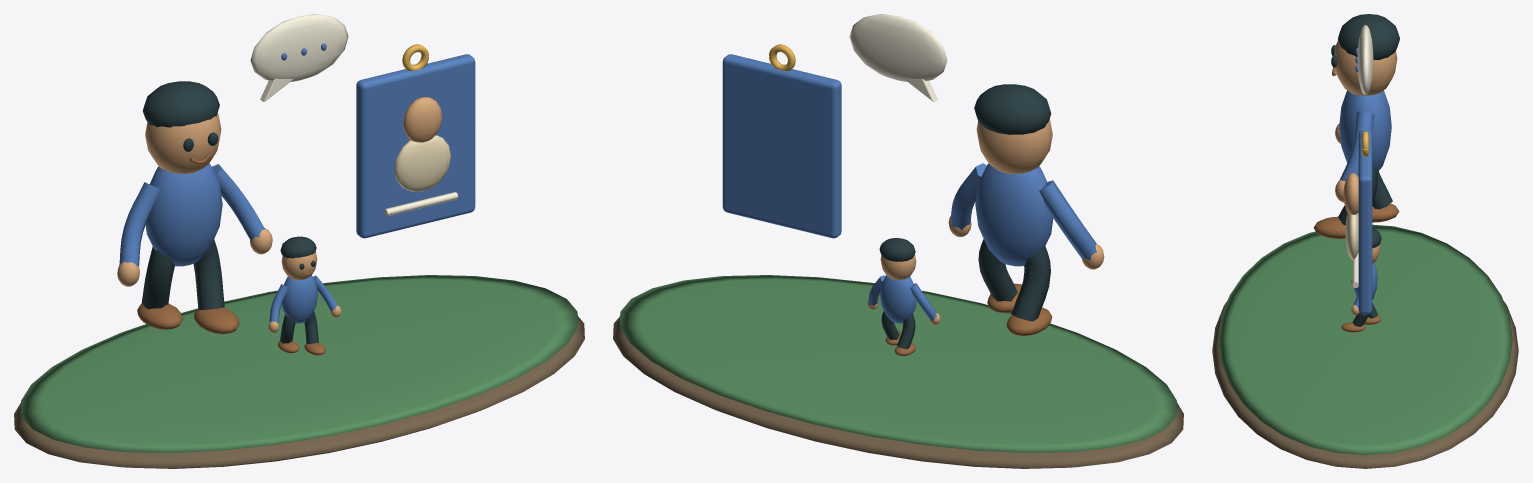
The model's file is complete-first-introduce-two-people.glb.
3 views of the same model, side by side, from view 1: azimuth 30°, elevation 25°; view 2: azimuth 150°, elevation 25°; view 3: azimuth 270°, elevation 25° (orthographic). The views are drawn at different scales.
Parts seen in each view (by area): view 1: complete-first-introduce-two-people_surface_01, complete-first-introduce-two-people_surface_05, complete-first-introduce-two-people_surface_00, complete-first-introduce-two-people_surface_03, complete-first-introduce-two-people_surface_02, complete-first-introduce-two-people_surface_07, complete-first-introduce-two-people_surface_06, complete-first-introduce-two-people_surface_04; view 2: complete-first-introduce-two-people_surface_01, complete-first-introduce-two-people_surface_05, complete-first-introduce-two-people_surface_00, complete-first-introduce-two-people_surface_03, complete-first-introduce-two-people_surface_07, complete-first-introduce-two-people_surface_02, complete-first-introduce-two-people_surface_04; view 3: complete-first-introduce-two-people_surface_01, complete-first-introduce-two-people_surface_05, complete-first-introduce-two-people_surface_00, complete-first-introduce-two-people_surface_03, complete-first-introduce-two-people_surface_02, complete-first-introduce-two-people_surface_04, complete-first-introduce-two-people_surface_07, complete-first-introduce-two-people_surface_06.
Part boxes in pixels (<box>): complete-first-introduce-two-people_surface_01: <box>21,275,577,452</box>; complete-first-introduce-two-people_surface_05: <box>119,43,475,323</box>; complete-first-introduce-two-people_surface_00: <box>14,316,584,468</box>; complete-first-introduce-two-people_surface_03: <box>141,81,318,343</box>; complete-first-introduce-two-people_surface_02: <box>117,97,442,332</box>; complete-first-introduce-two-people_surface_07: <box>250,14,458,216</box>; complete-first-introduce-two-people_surface_06: <box>394,135,450,191</box>; complete-first-introduce-two-people_surface_04: <box>137,154,325,355</box>; complete-first-introduce-two-people_surface_01: <box>620,275,1176,452</box>; complete-first-introduce-two-people_surface_05: <box>722,54,1096,323</box>; complete-first-introduce-two-people_surface_00: <box>613,316,1183,468</box>; complete-first-introduce-two-people_surface_03: <box>879,84,1051,349</box>; complete-first-introduce-two-people_surface_07: <box>849,14,947,101</box>; complete-first-introduce-two-people_surface_02: <box>867,118,1104,324</box>; complete-first-introduce-two-people_surface_04: <box>885,283,1052,356</box>; complete-first-introduce-two-people_surface_01: <box>1218,224,1512,455</box>; complete-first-introduce-two-people_surface_05: <box>1339,48,1391,314</box>; complete-first-introduce-two-people_surface_00: <box>1212,301,1518,468</box>; complete-first-introduce-two-people_surface_03: <box>1331,14,1399,326</box>; complete-first-introduce-two-people_surface_02: <box>1334,40,1397,315</box>; complete-first-introduce-two-people_surface_04: <box>1313,67,1399,332</box>; complete-first-introduce-two-people_surface_07: <box>1352,25,1373,287</box>; complete-first-introduce-two-people_surface_06: <box>1345,212,1358,259</box>.
Size of the model in its own units: 4.56 by 3 by 2.5.
